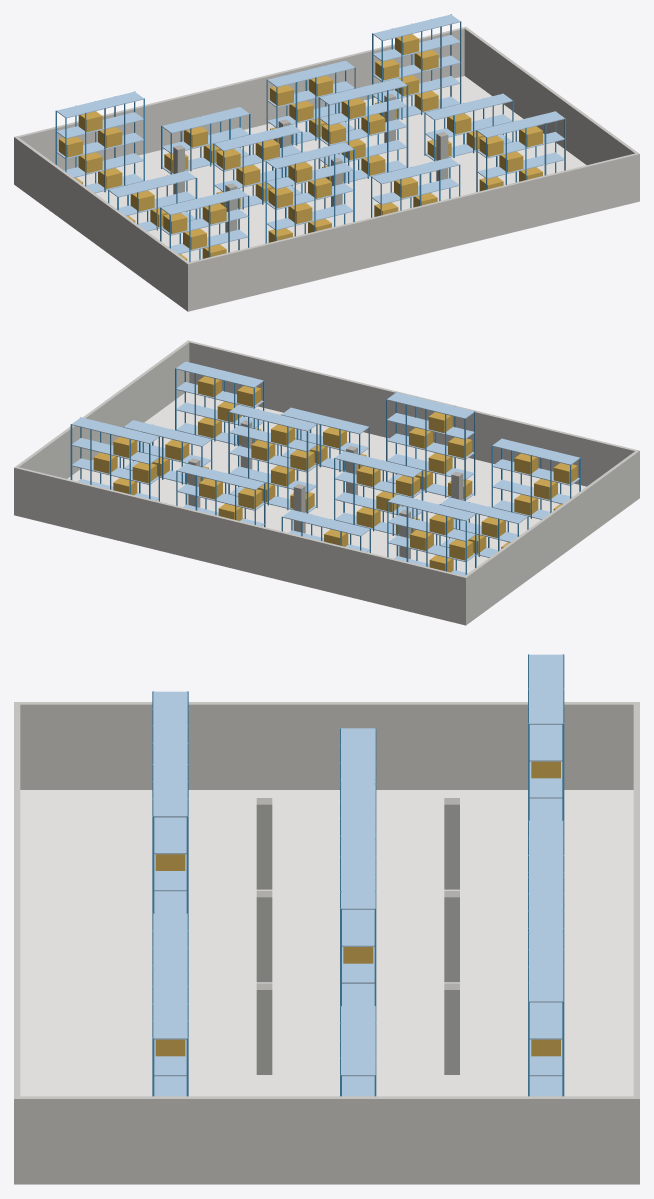
File: 03-kho-lon-nhieu-day.glb
The picture shows the model from 3 angles, top to bottom: view 1: azimuth 30°, elevation 25°; view 2: azimuth 150°, elevation 25°; view 3: azimuth 270°, elevation 25°; orthographic projection. The views are drawn at different scales.
Size of the model in its own units: 30 by 5.34 by 20.
